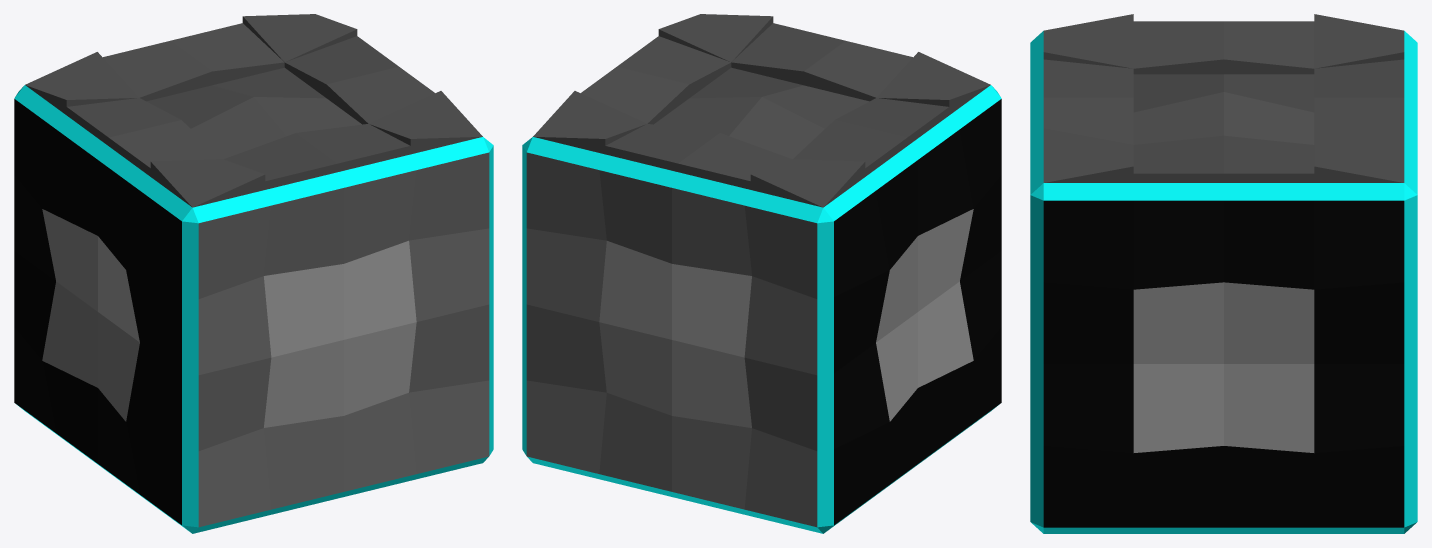
File: SciFI_Crate_second(M4tt3o).fbx
The picture shows the model from 3 angles, left to right: view 1: azimuth 30°, elevation 25°; view 2: azimuth 150°, elevation 25°; view 3: azimuth 270°, elevation 25°; orthographic projection. The views are drawn at different scales.
Parts seen in each view (by area): view 1: Cube.001; view 2: Cube.001; view 3: Cube.001.
Part boxes in pixels (x1,y1,x2,y2): Cube.001: [14, 14, 493, 533]; Cube.001: [522, 14, 1001, 533]; Cube.001: [1030, 14, 1417, 533].
Bounding box in the file's own units: 218 × 209 × 200.
1 material, 1 textured.
